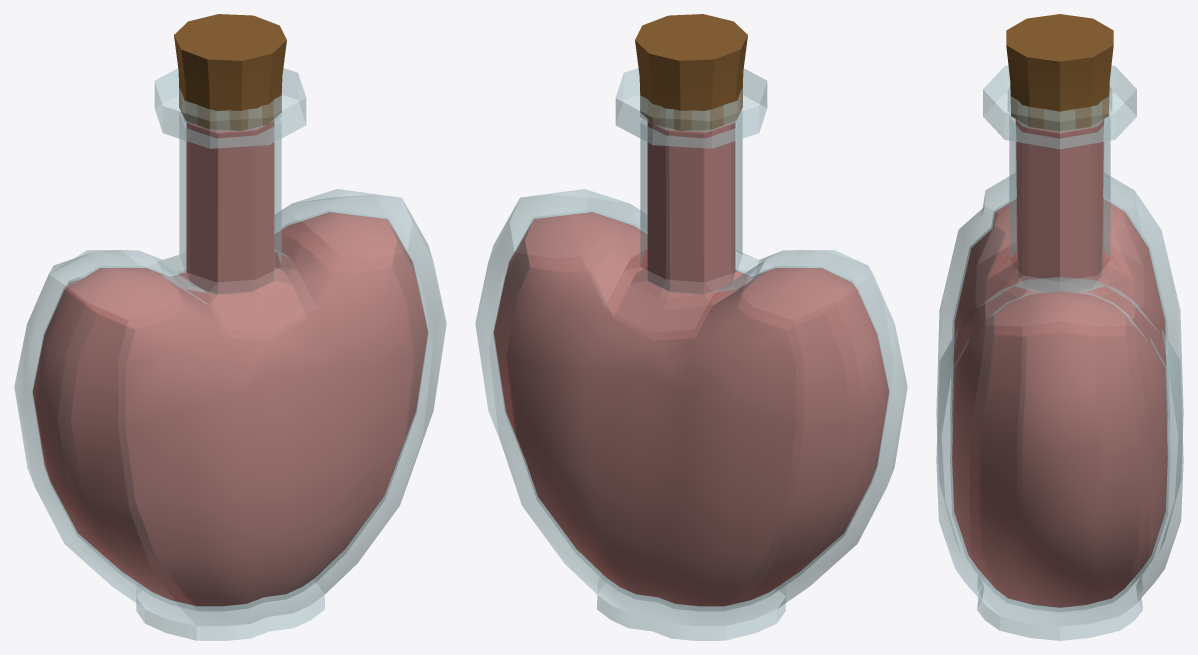
File: love_potion_02.fbx
3 renders of one model, left to right at view 1: azimuth 30°, elevation 25°; view 2: azimuth 150°, elevation 25°; view 3: azimuth 270°, elevation 25°, orthographic.
Parts seen in each view (by area): view 1: love_bottle, love_liquid, love_cork; view 2: love_bottle, love_liquid, love_cork; view 3: love_bottle, love_liquid, love_cork.
Part boxes in pixels (bbox=[...]): love_bottle: bbox=[14, 68, 446, 640]; love_liquid: bbox=[33, 120, 427, 605]; love_cork: bbox=[174, 14, 286, 130]; love_bottle: bbox=[475, 68, 907, 640]; love_liquid: bbox=[494, 120, 888, 605]; love_cork: bbox=[635, 14, 747, 130]; love_bottle: bbox=[936, 65, 1183, 640]; love_liquid: bbox=[952, 120, 1167, 607]; love_cork: bbox=[1006, 14, 1113, 130].
Size of the model in its own units: 3.46 by 4.46 by 1.78.
